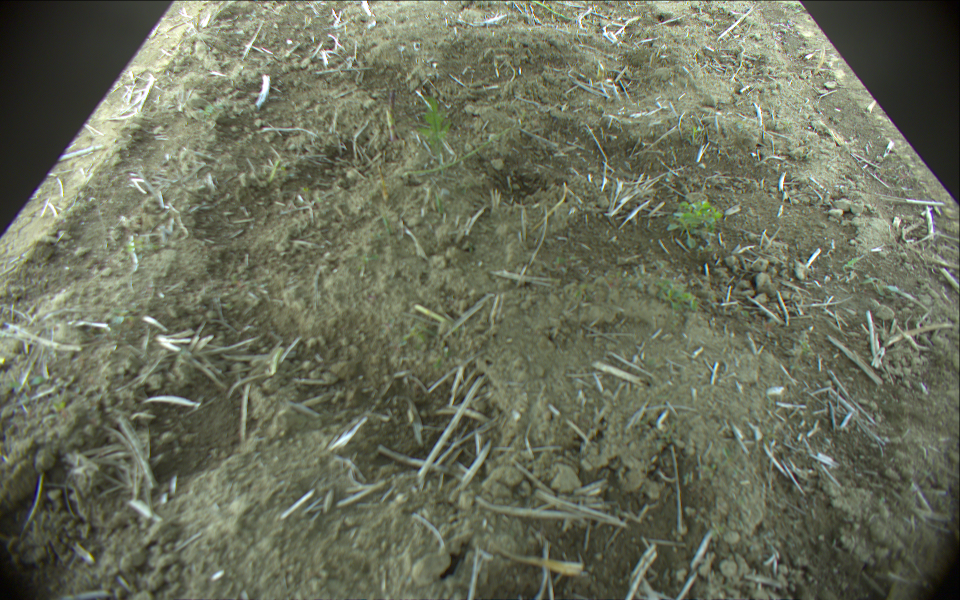aspa: (383, 88, 399, 140)
